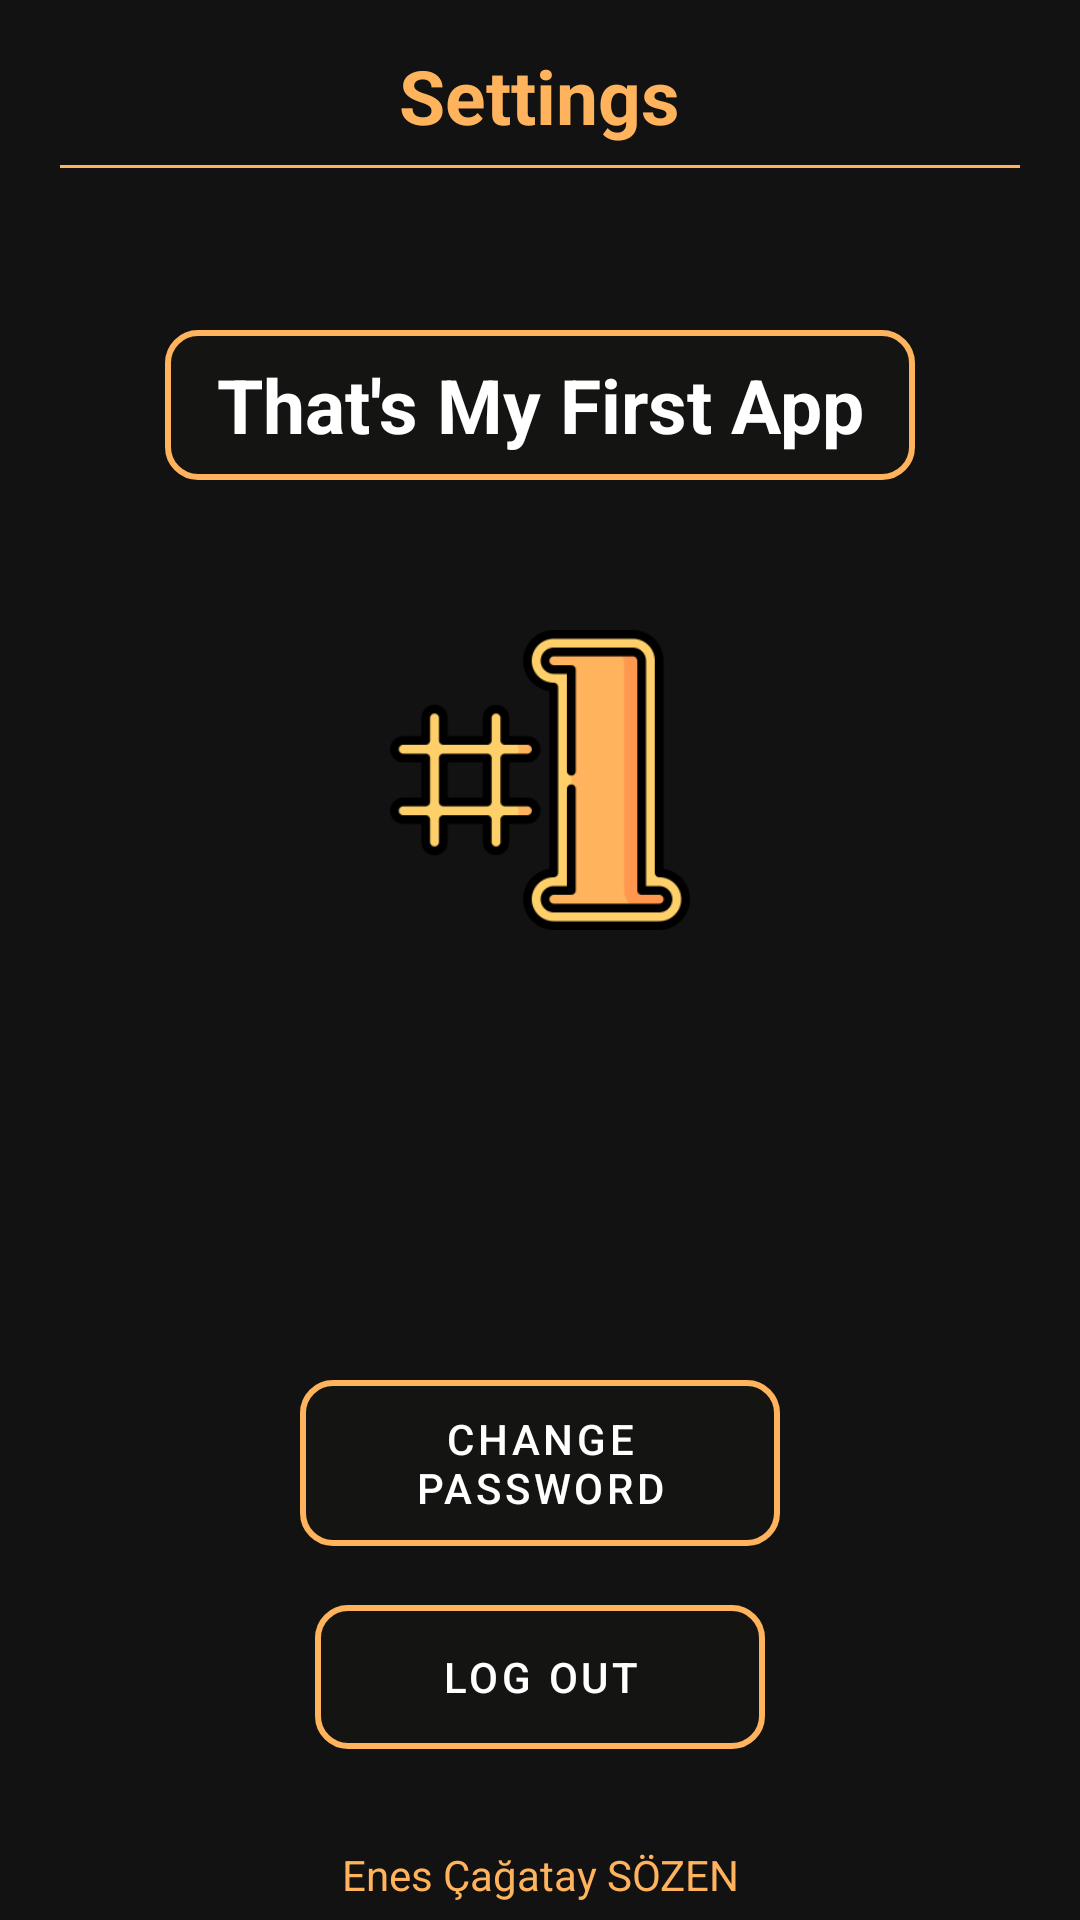

Where to tap for icons on this 1080×1920 app screen, as (x,y):
appicon: (540,780)
